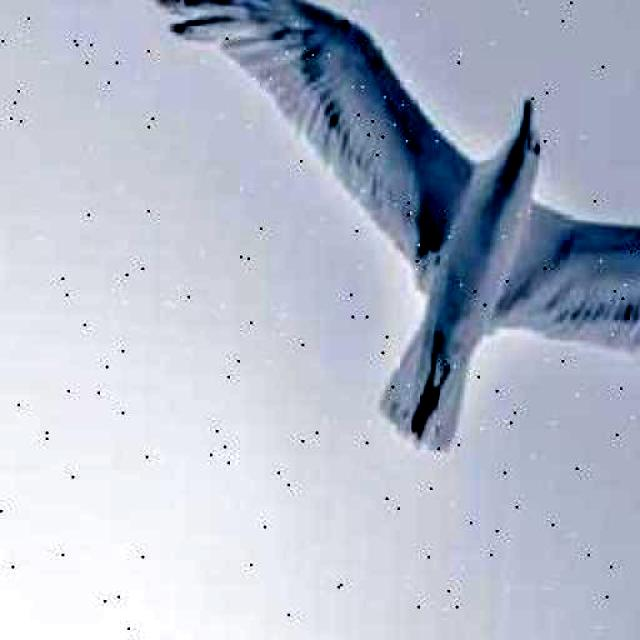airplane: (99, 0, 640, 481)
